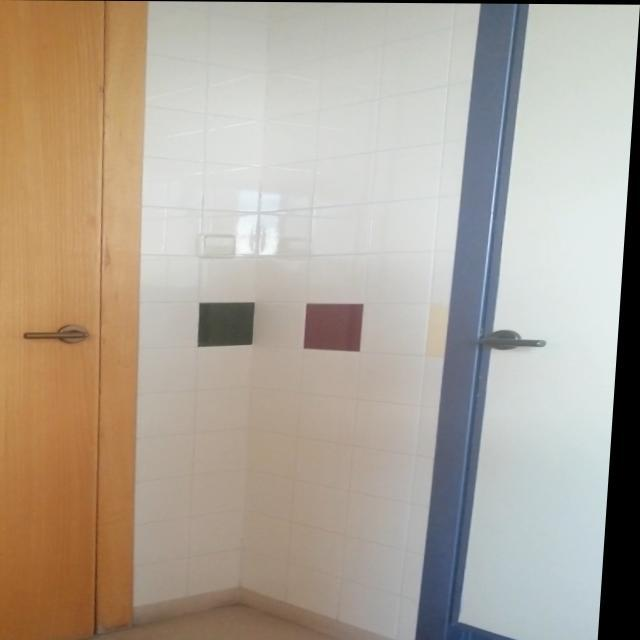door_handle: (482, 335, 555, 348), (25, 330, 95, 341)
